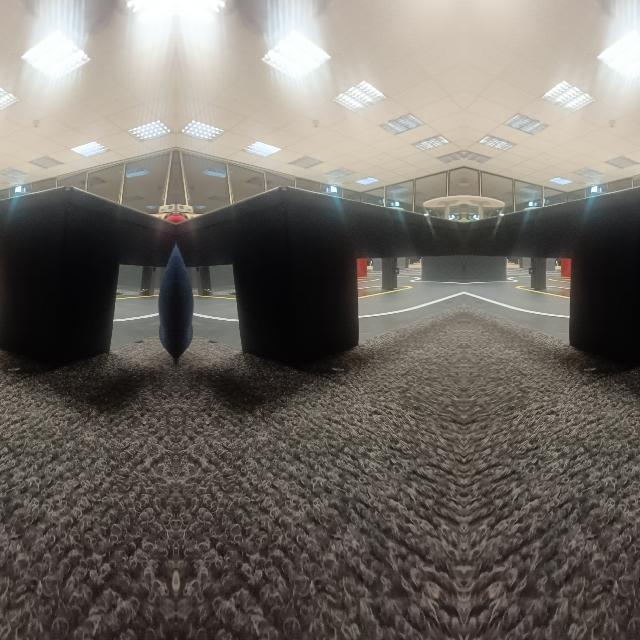obstacle: (178, 180, 464, 358), (463, 179, 640, 358), (0, 179, 172, 358)
